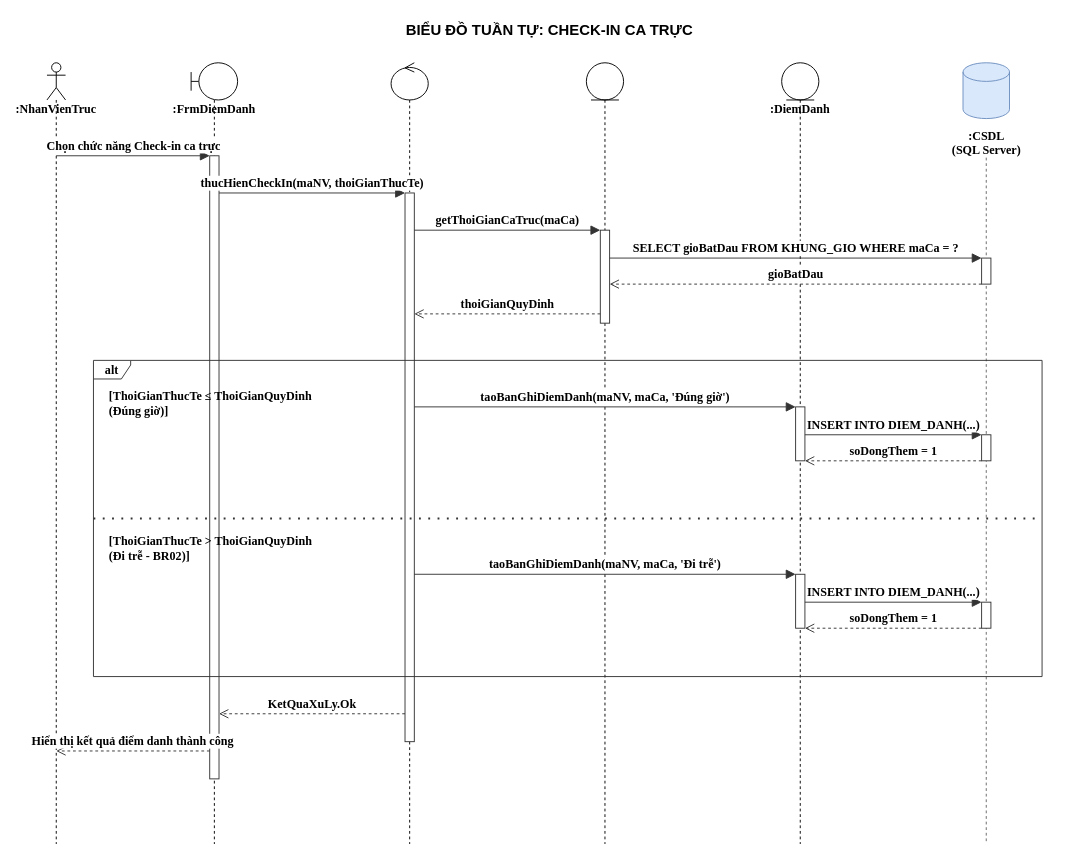
Image size: 1077x861. Some labels were removed from this diagram. Each missing label, with the box of its shape:
:DiemDanhService: (390, 62, 428, 844)
:LichTruc: (585, 62, 624, 844)
